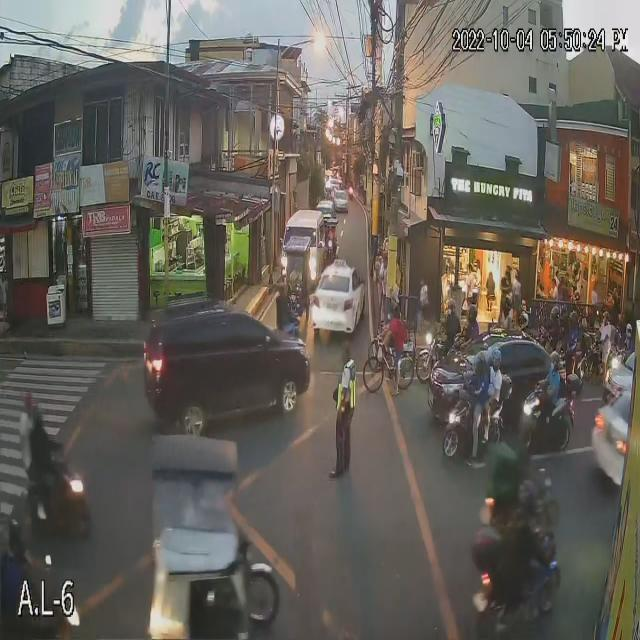helmet: (514, 479, 543, 517), (513, 412, 534, 443), (272, 275, 294, 303), (562, 309, 586, 334), (30, 395, 48, 428), (467, 352, 488, 377), (464, 294, 480, 324), (544, 301, 562, 327), (18, 388, 34, 416), (489, 345, 506, 370), (445, 299, 460, 327), (622, 321, 639, 341), (514, 311, 530, 332), (595, 312, 616, 327), (560, 298, 574, 320), (500, 297, 514, 315)
motorcycle: (463, 533, 574, 640), (20, 455, 88, 548), (478, 471, 560, 539), (432, 393, 510, 463), (517, 388, 581, 448), (580, 335, 618, 378)
rider: (502, 480, 552, 591), (504, 412, 540, 491), (11, 390, 42, 467), (461, 352, 490, 426), (426, 293, 460, 354), (31, 397, 53, 478), (540, 347, 571, 403), (482, 341, 504, 406), (463, 295, 488, 347), (495, 289, 521, 338), (592, 303, 614, 357), (275, 277, 293, 333), (554, 299, 570, 352), (562, 305, 580, 352), (548, 297, 560, 360), (619, 317, 635, 355), (516, 305, 531, 338)
